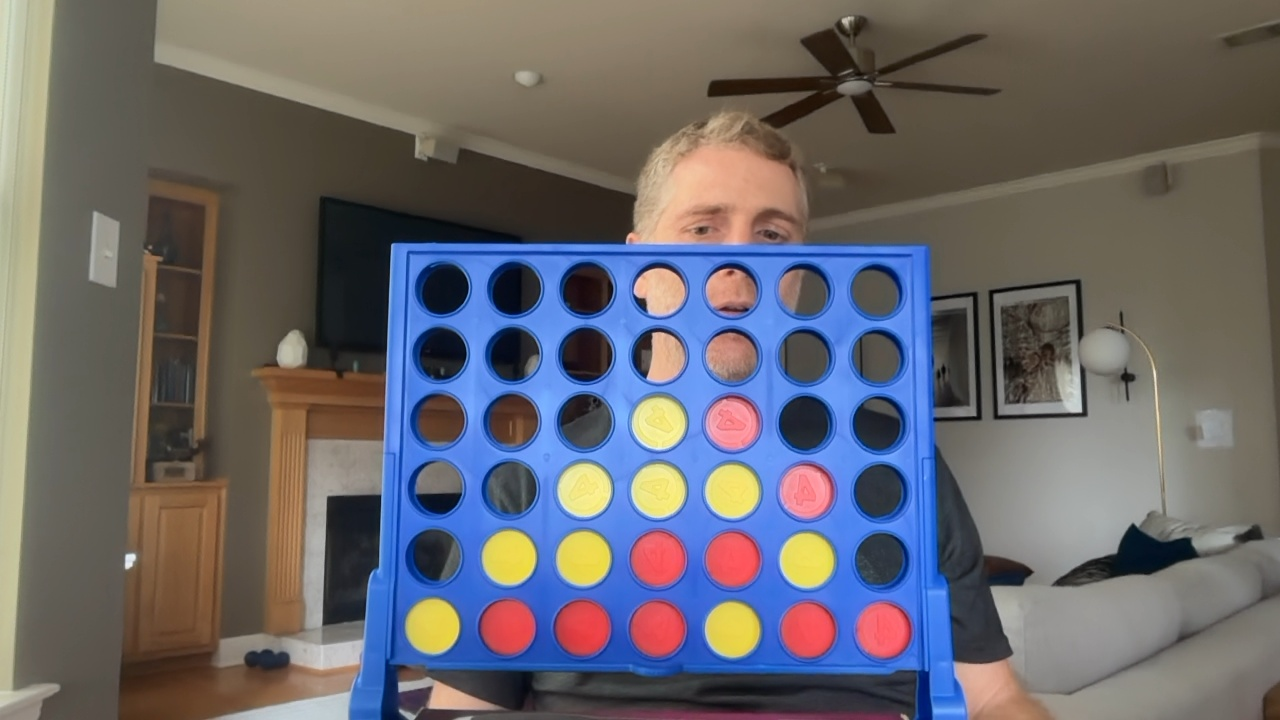red piece: (630, 530, 686, 588), (780, 601, 836, 659), (630, 600, 686, 658), (705, 531, 761, 588), (479, 599, 535, 656), (554, 600, 610, 657), (856, 602, 911, 659), (779, 463, 833, 519), (705, 396, 760, 450)
yellow piece: (704, 600, 761, 659), (704, 462, 761, 520), (556, 530, 611, 588), (780, 531, 835, 589), (404, 598, 460, 654), (557, 461, 612, 518), (481, 529, 536, 586), (631, 462, 686, 519), (631, 395, 687, 450)
